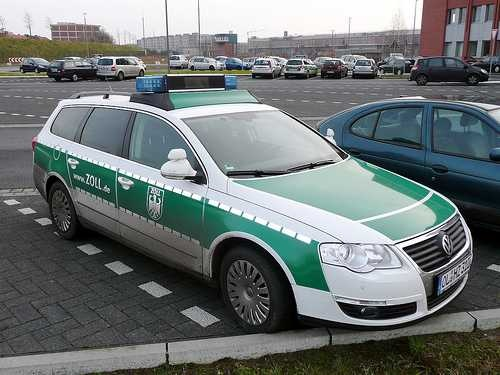Police Car: (29, 65, 439, 375)
